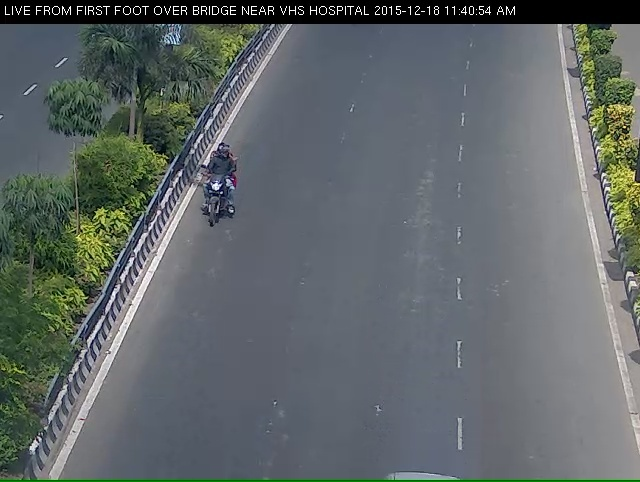Person: (190, 147, 245, 250)
